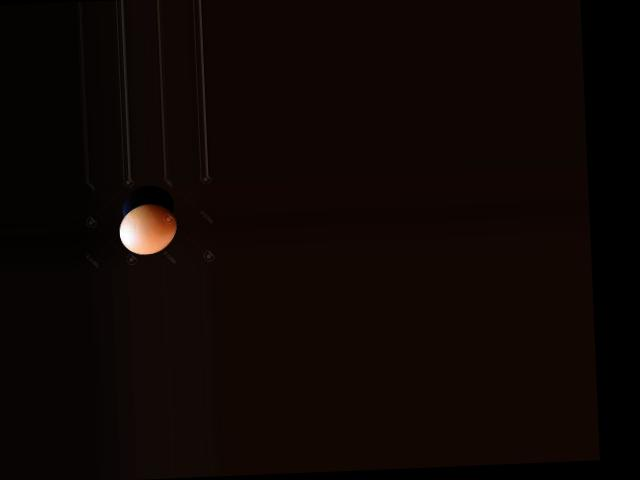egg: (118, 202, 178, 255)
